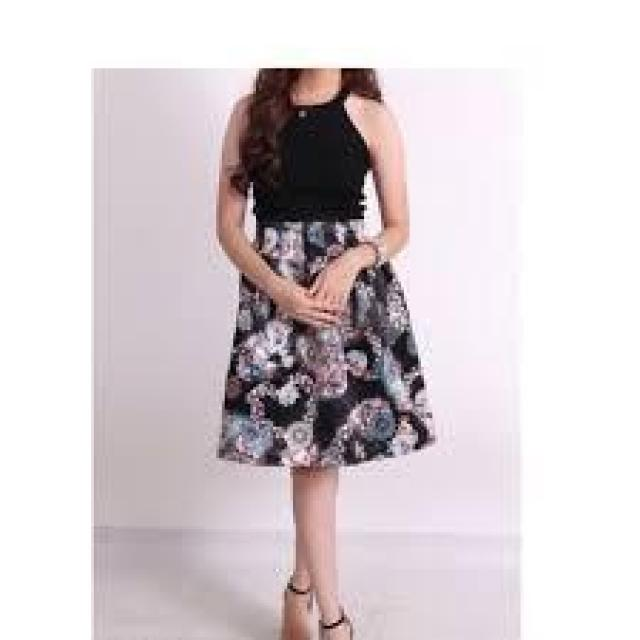skirt: (226, 222, 428, 472)
